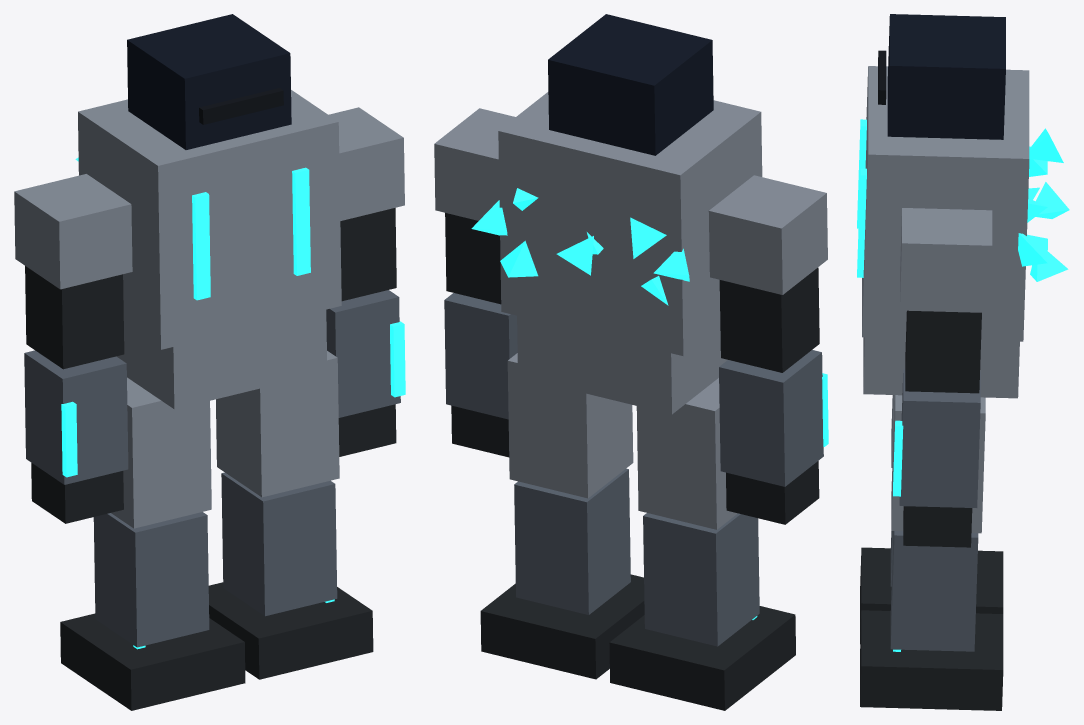
The model's file is boss_hydraclone.glb.
3 views of the same model, side by side, from view 1: azimuth 30°, elevation 25°; view 2: azimuth 150°, elevation 25°; view 3: azimuth 270°, elevation 25° (orthographic).
Bounding box in the file's own units: 2.48 × 4.18 × 1.32.
